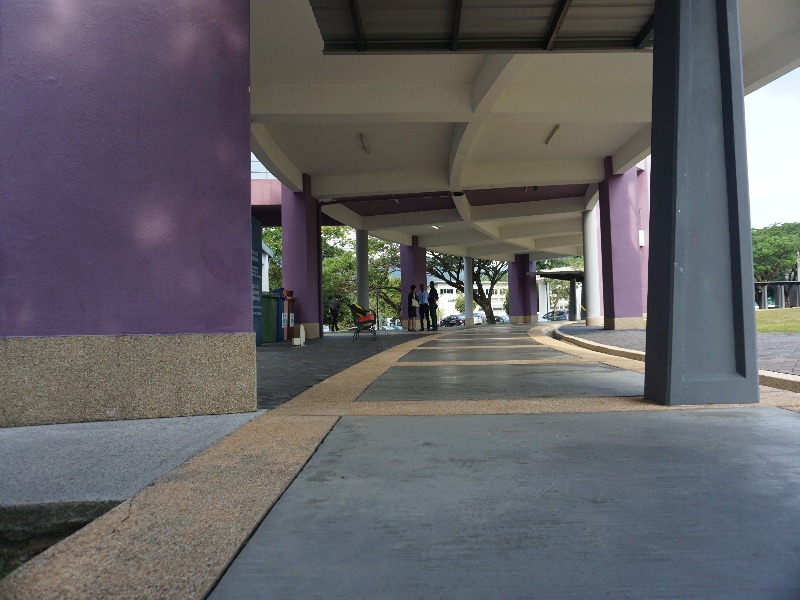Block D Pillar 1: (2, 6, 800, 479)
pillar: (7, 7, 264, 430), (639, 5, 763, 410), (274, 164, 323, 340)
